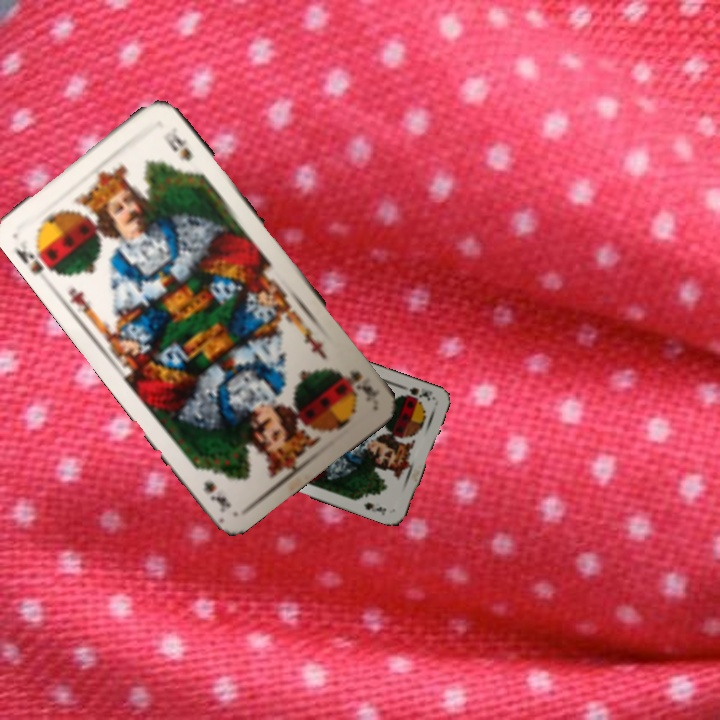SK: (11, 243, 61, 277), (342, 366, 383, 405), (396, 381, 435, 403)
